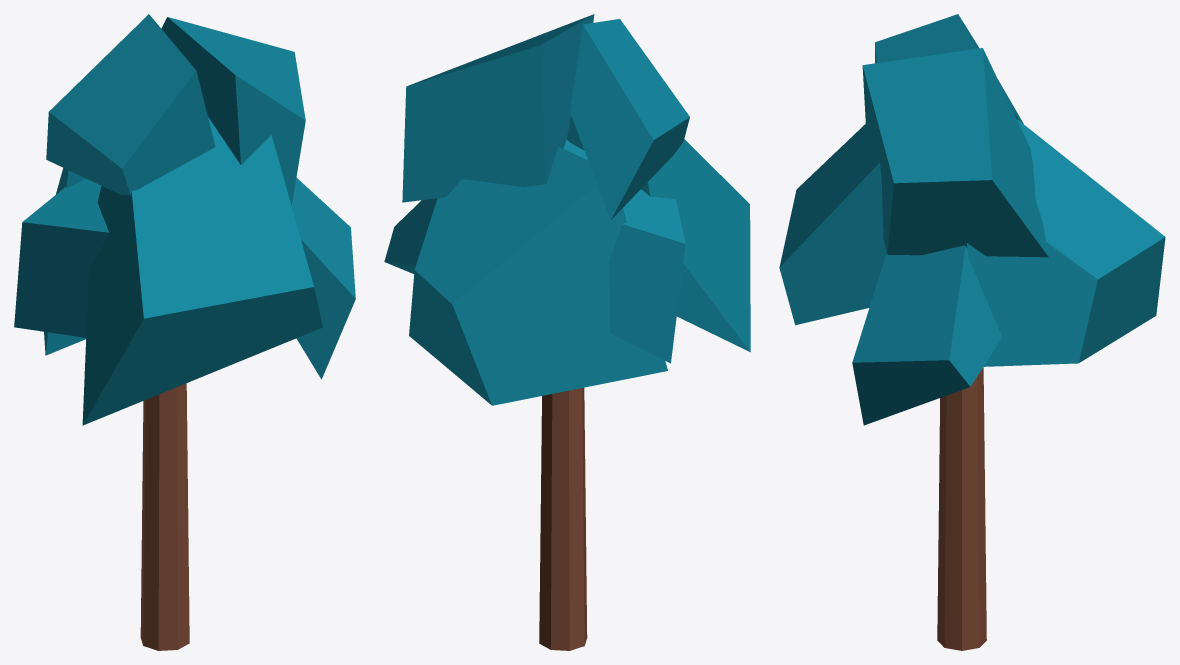
Rendered from Tree_41_summer_blue_mat.fbx.
The picture shows the model from 3 angles, left to right: view 1: azimuth 30°, elevation 25°; view 2: azimuth 150°, elevation 25°; view 3: azimuth 270°, elevation 25°; orthographic projection. The views are drawn at different scales.
Visible parts, largest first — view 1: Tree_41_summer_blue_mat; view 2: Tree_41_summer_blue_mat; view 3: Tree_41_summer_blue_mat.
Part boxes in pixels (x1,y1,x2,y2): Tree_41_summer_blue_mat: (14, 14, 355, 650); Tree_41_summer_blue_mat: (384, 14, 750, 650); Tree_41_summer_blue_mat: (779, 14, 1165, 650).
Bounding box in the file's own units: 120 × 229 × 130.
